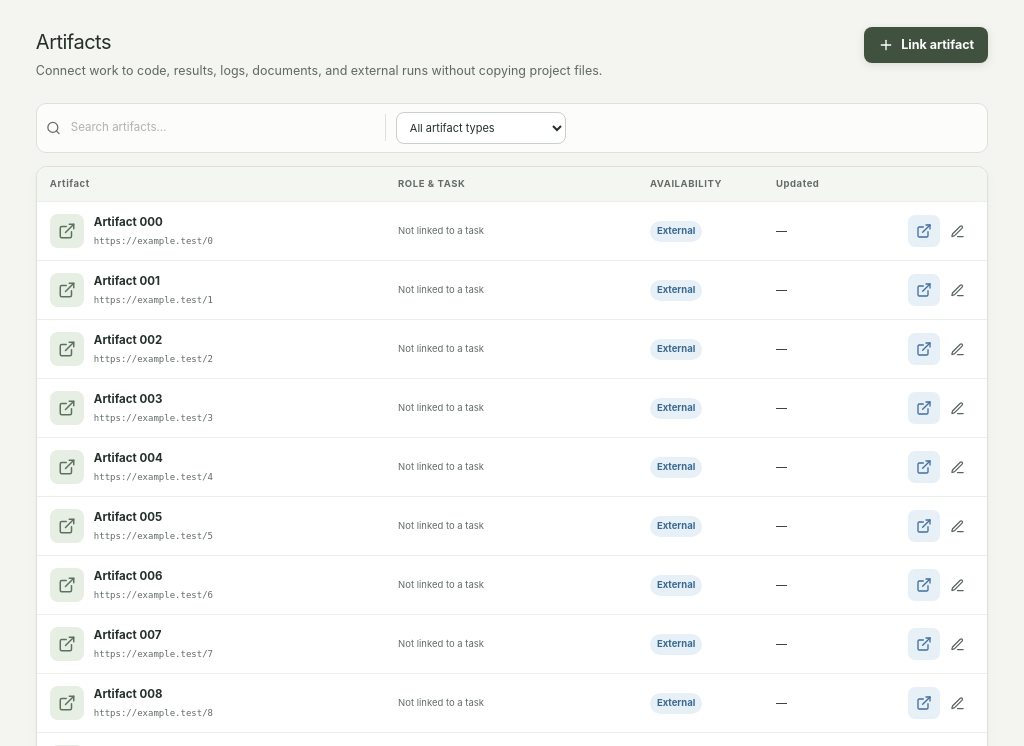
Test: ArtifactsView scale bounds › sorts the full filtered collection before selecting a page
Click the button "Artifact".
click(76, 184)  # box [50, 177, 103, 191]
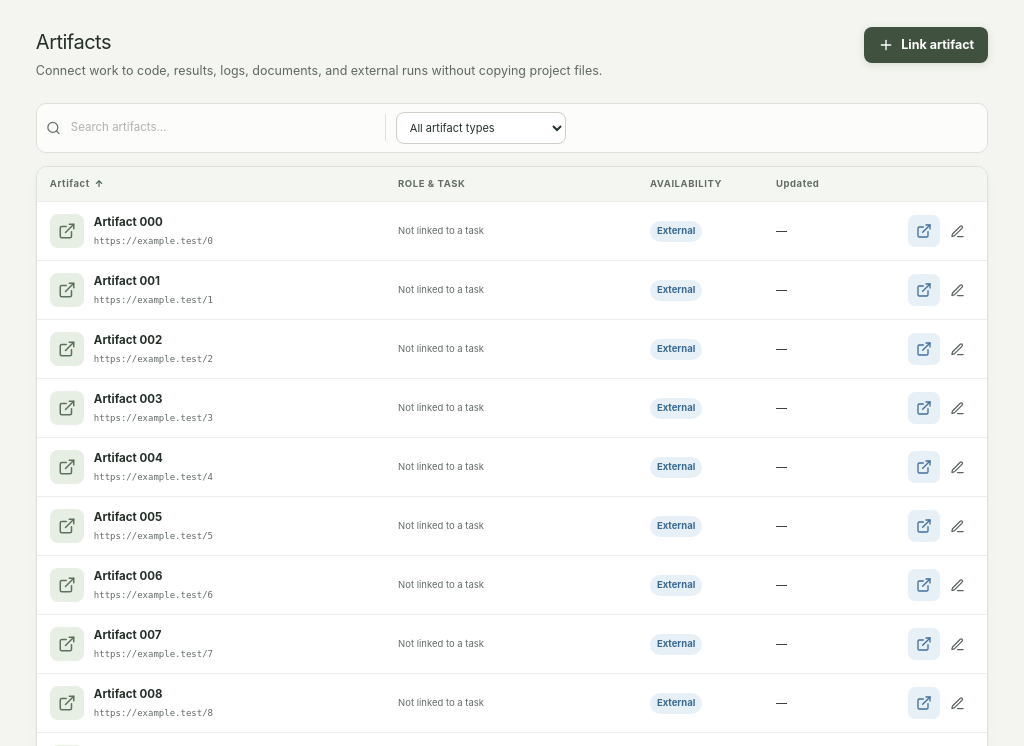
Click the button "Artifact ↑".
click(77, 184)  # box [50, 177, 104, 191]
(page scrolled)
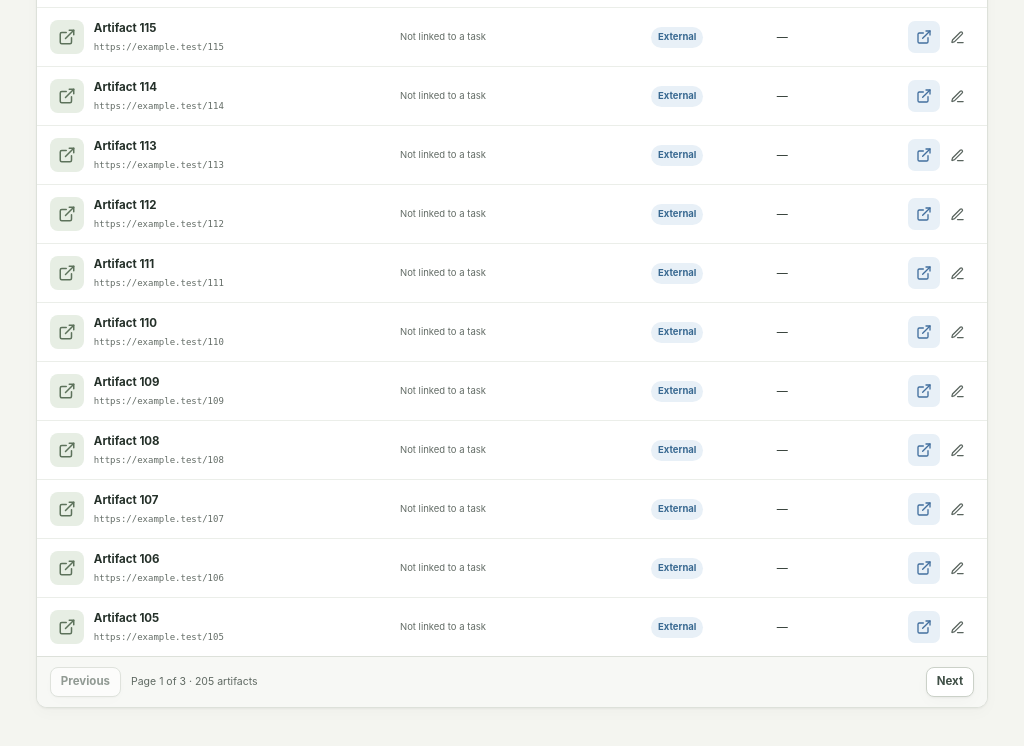
Expected: the text "Artifact 104" is not shown
Click the button "Next".
click(950, 682)  # box [926, 667, 974, 697]
(page scrolled)
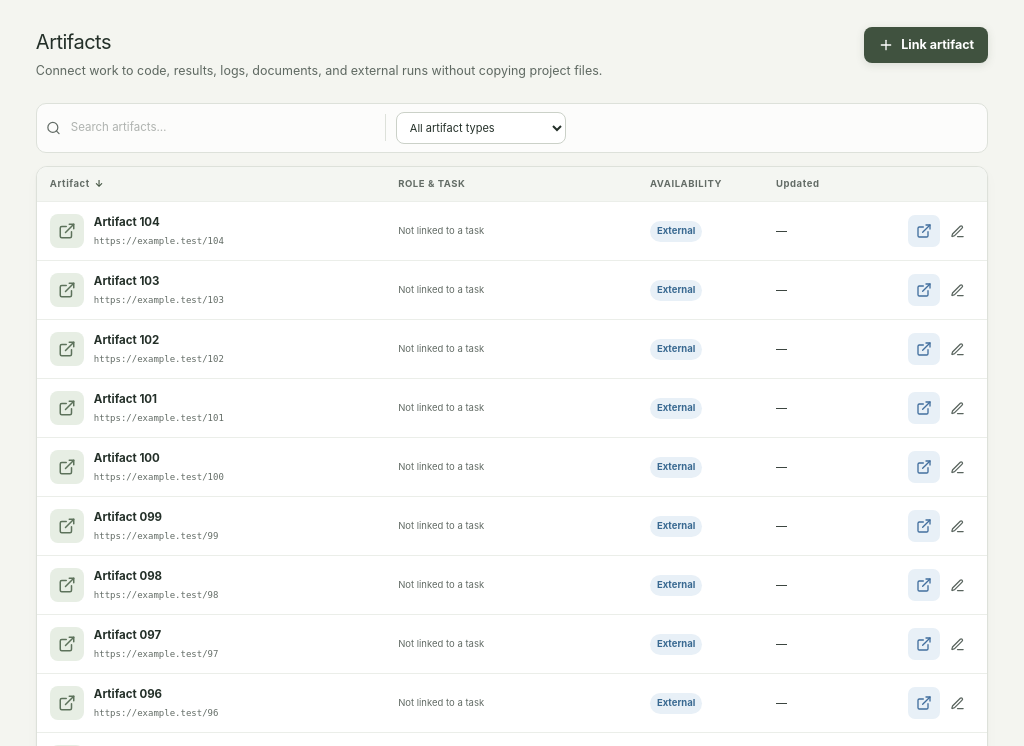
Expected: the text "Artifact 104" is shown, [94, 215, 160, 229]
